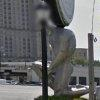Statue: (33, 17, 86, 96)
